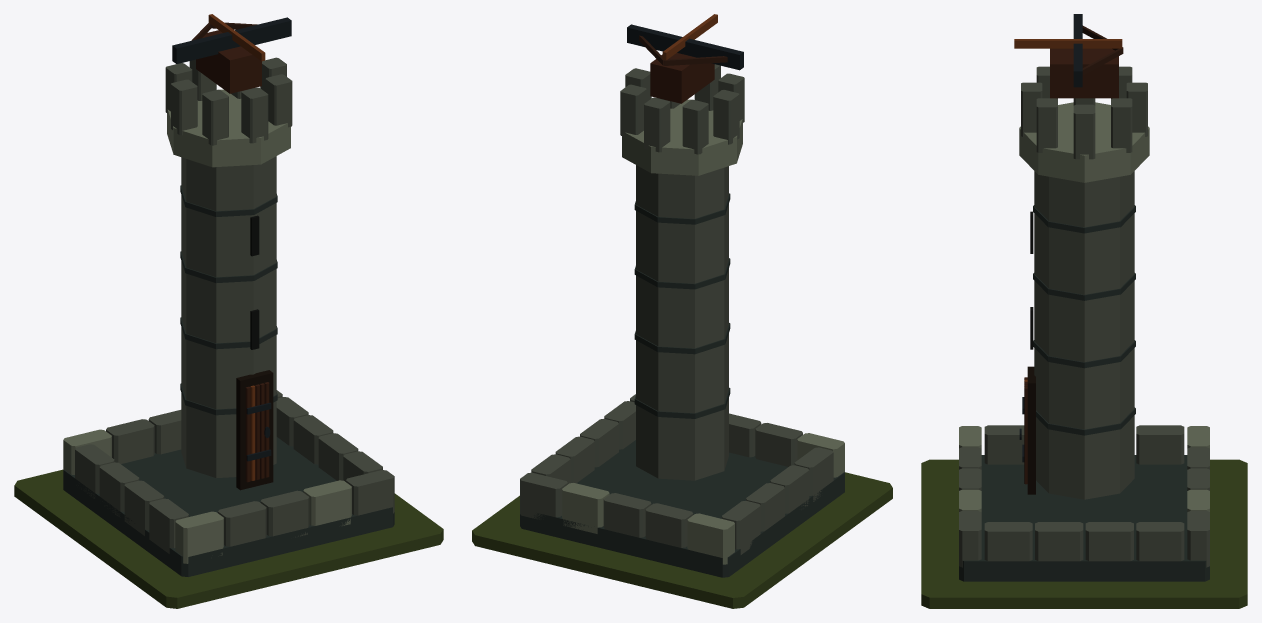
File: ballista_t2.glb
3 renders of one model, left to right at view 1: azimuth 30°, elevation 25°; view 2: azimuth 150°, elevation 25°; view 3: azimuth 270°, elevation 25°, orthographic. The views are drawn at different scales.
Parts seen in each view (by area): view 1: MMR | ballista | T02 Architecture.001, MMR | ballista | Tier 02 Ground.001; view 2: MMR | ballista | T02 Architecture.001, MMR | ballista | Tier 02 Ground.001; view 3: MMR | ballista | T02 Architecture.001, MMR | ballista | Tier 02 Ground.001.
Part boxes in pixels (x1,y1,x2,y2): MMR | ballista | T02 Architecture.001: [63, 14, 394, 576]; MMR | ballista | Tier 02 Ground.001: [14, 469, 443, 608]; MMR | ballista | T02 Architecture.001: [520, 14, 844, 577]; MMR | ballista | Tier 02 Ground.001: [472, 472, 892, 608]; MMR | ballista | T02 Architecture.001: [959, 14, 1209, 581]; MMR | ballista | Tier 02 Ground.001: [921, 459, 1247, 608].
Size of the model in its own units: 1.3 by 2.2 by 1.3.
1 material, 1 textured.
